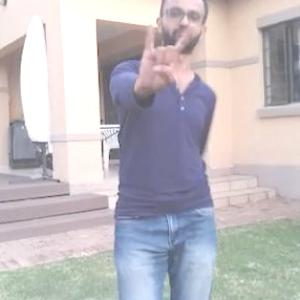takeoff-hand: (133, 17, 195, 94)
